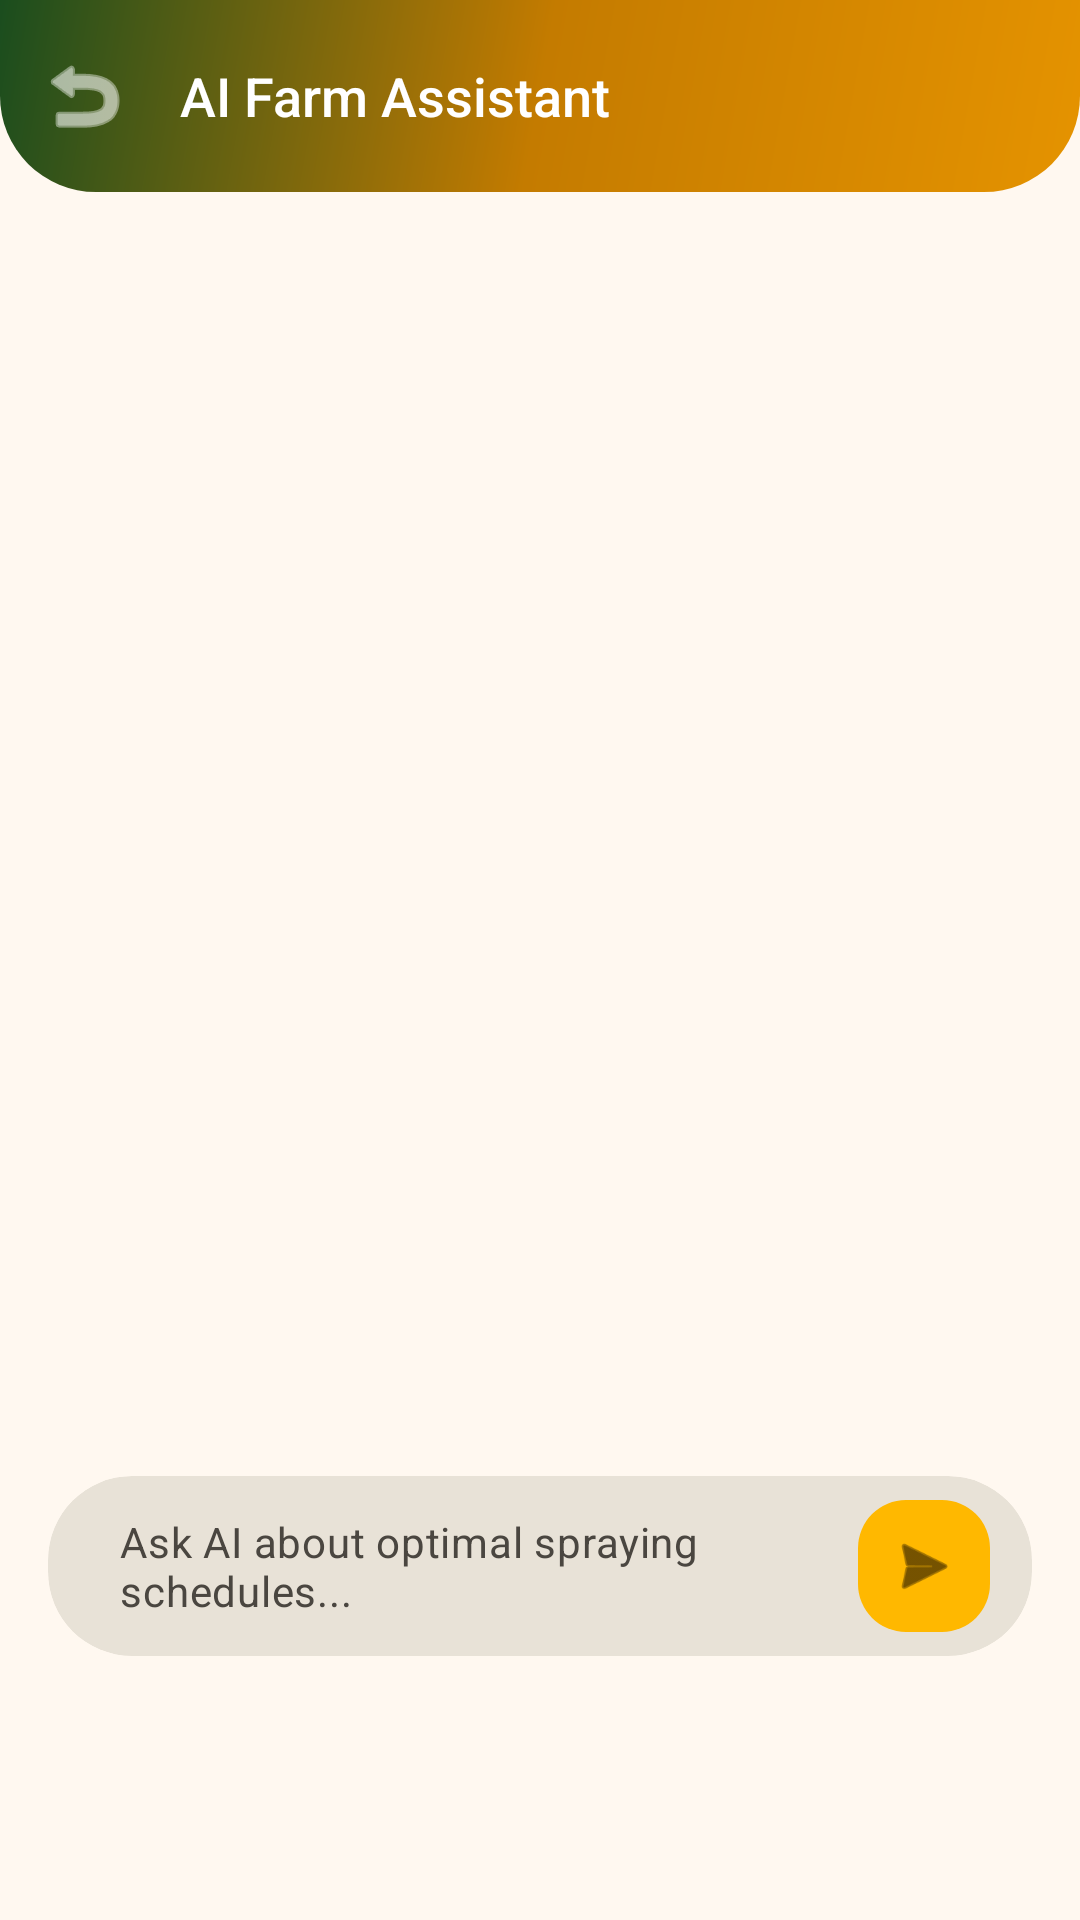

Icons on this 1080 × 1920 Android screen, each with its box as (x1, y1, x2, y2):
Send Message: (858, 1500, 990, 1632)
